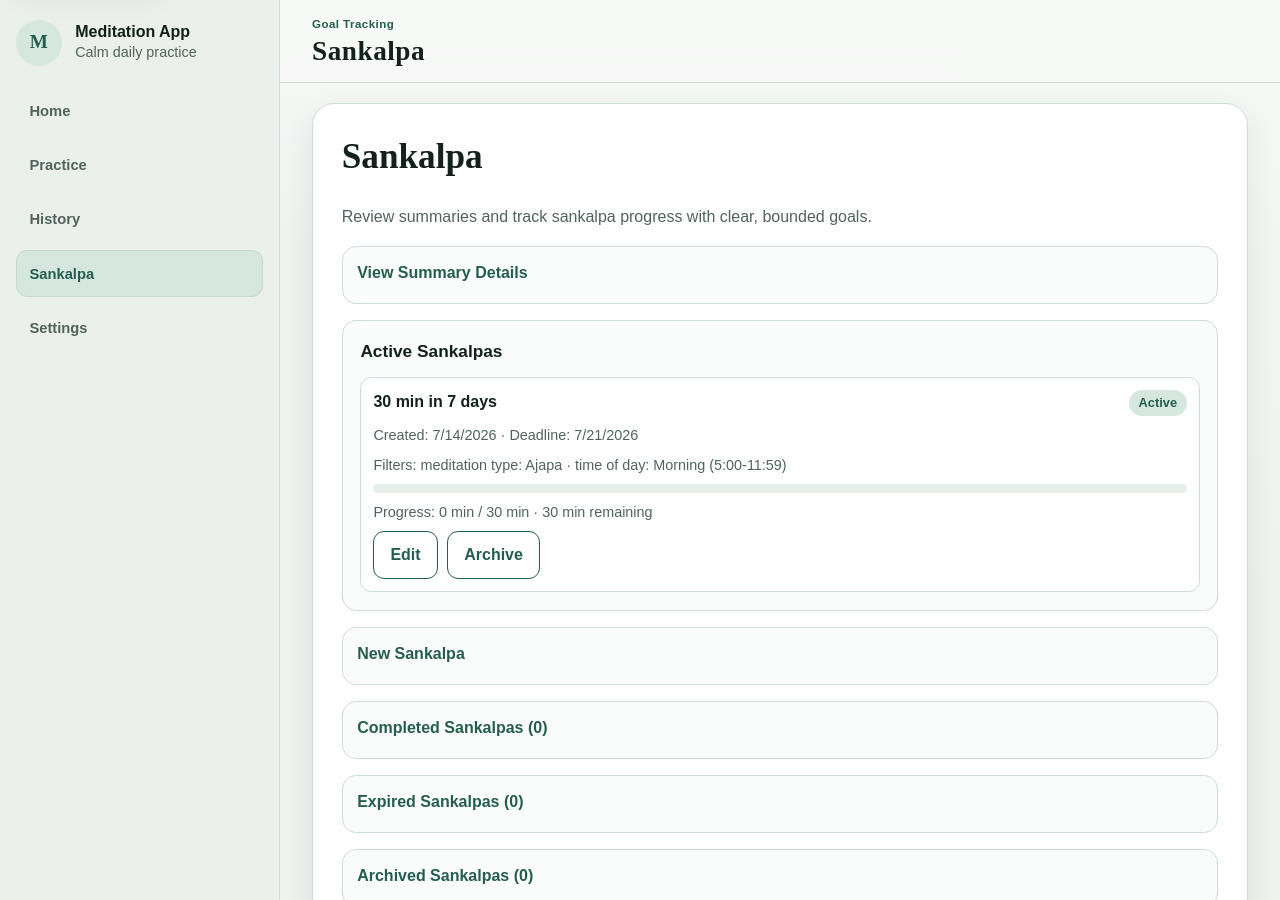
Test: Sankalpa summary UX › edits goal type and optional filters, then recalculates visible progress from the original window
The width and height of the screenshot is (1280, 900).
Click the button "Edit" at (406, 555), box [373,531,438,580]
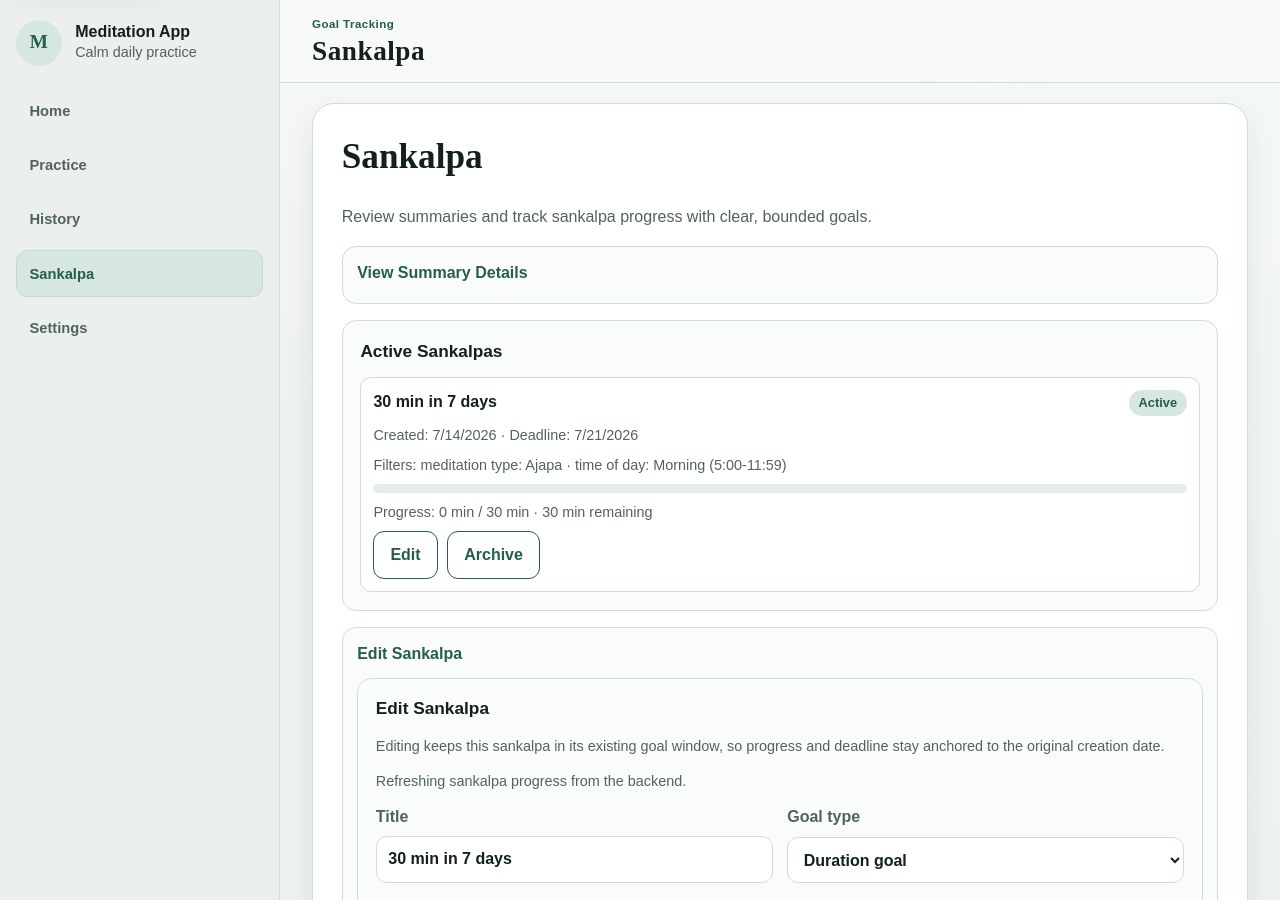
Select "Session-count goal" in the dropdown labelled "Goal type" at (986, 860), box [787,837,1184,883]
(page scrolled)
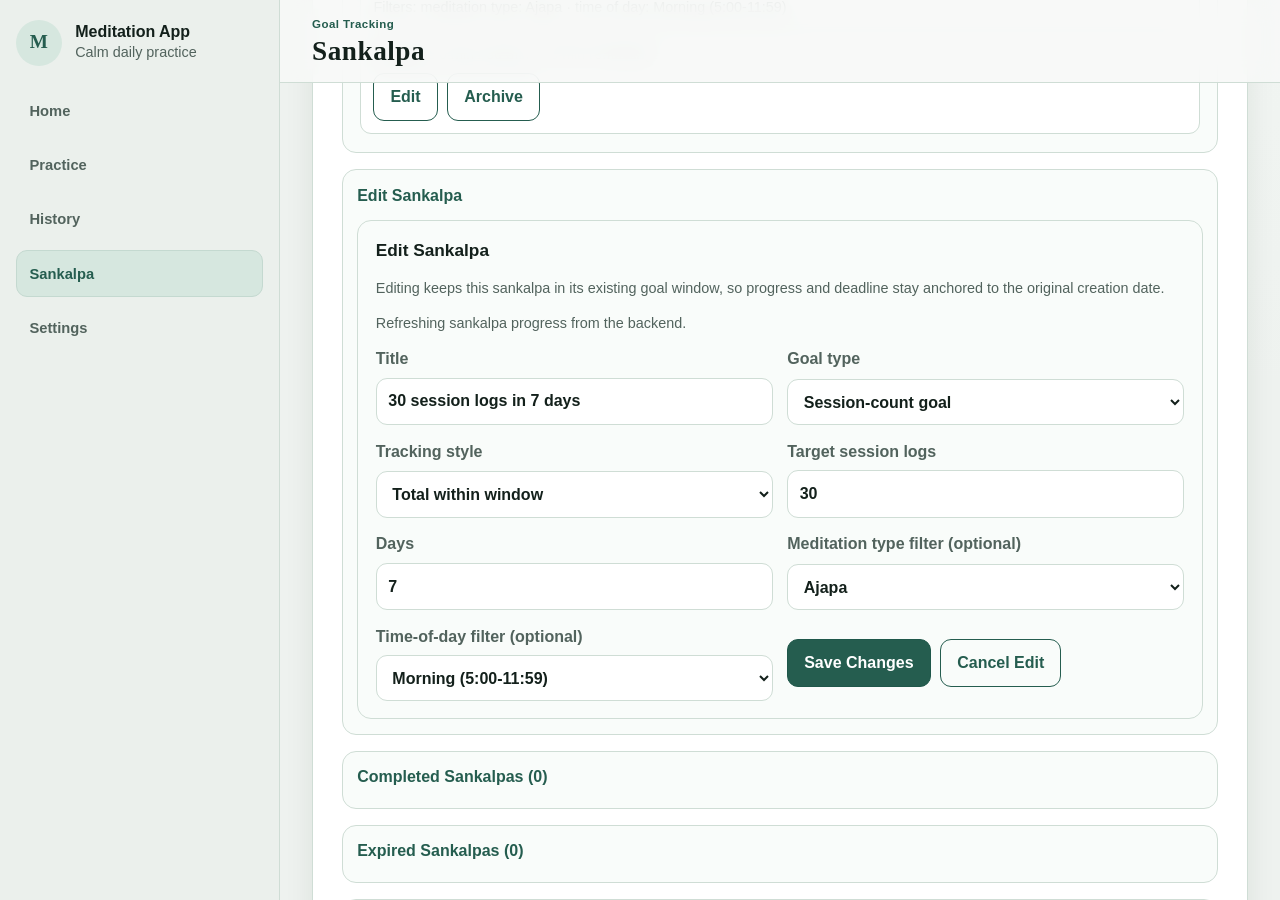
Expected: the number field labelled "Target session logs" is shown
Replace the text in the number field labelled "Target session logs" with "1" at (986, 494), box [787,470,1184,518]
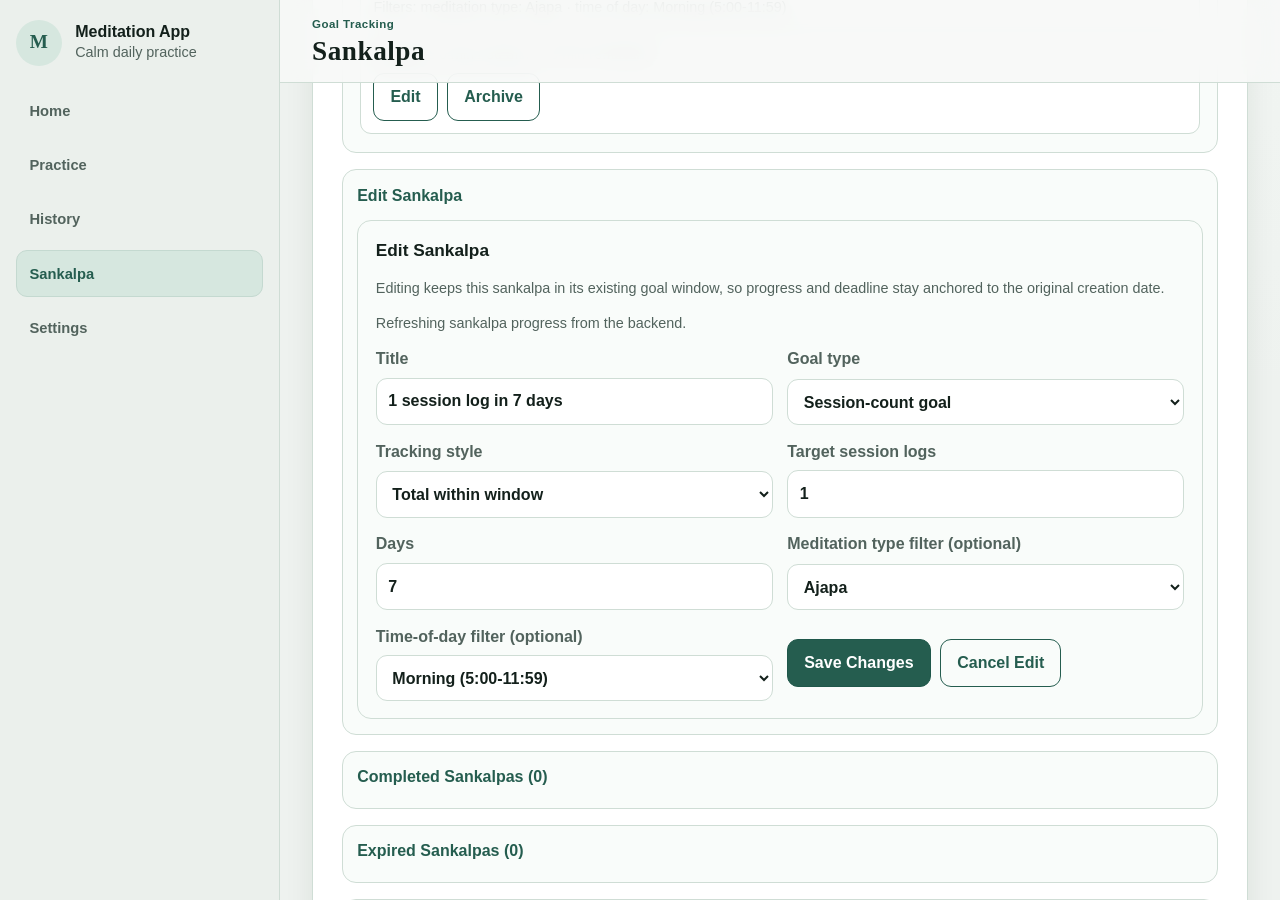
Replace the text in the number field labelled "Days" with "5" at (574, 587), box [376,563,773,610]
Select "Vipassana" in the dropdown labelled "Meditation type filter (optional)" at (986, 587), box [787,564,1184,610]
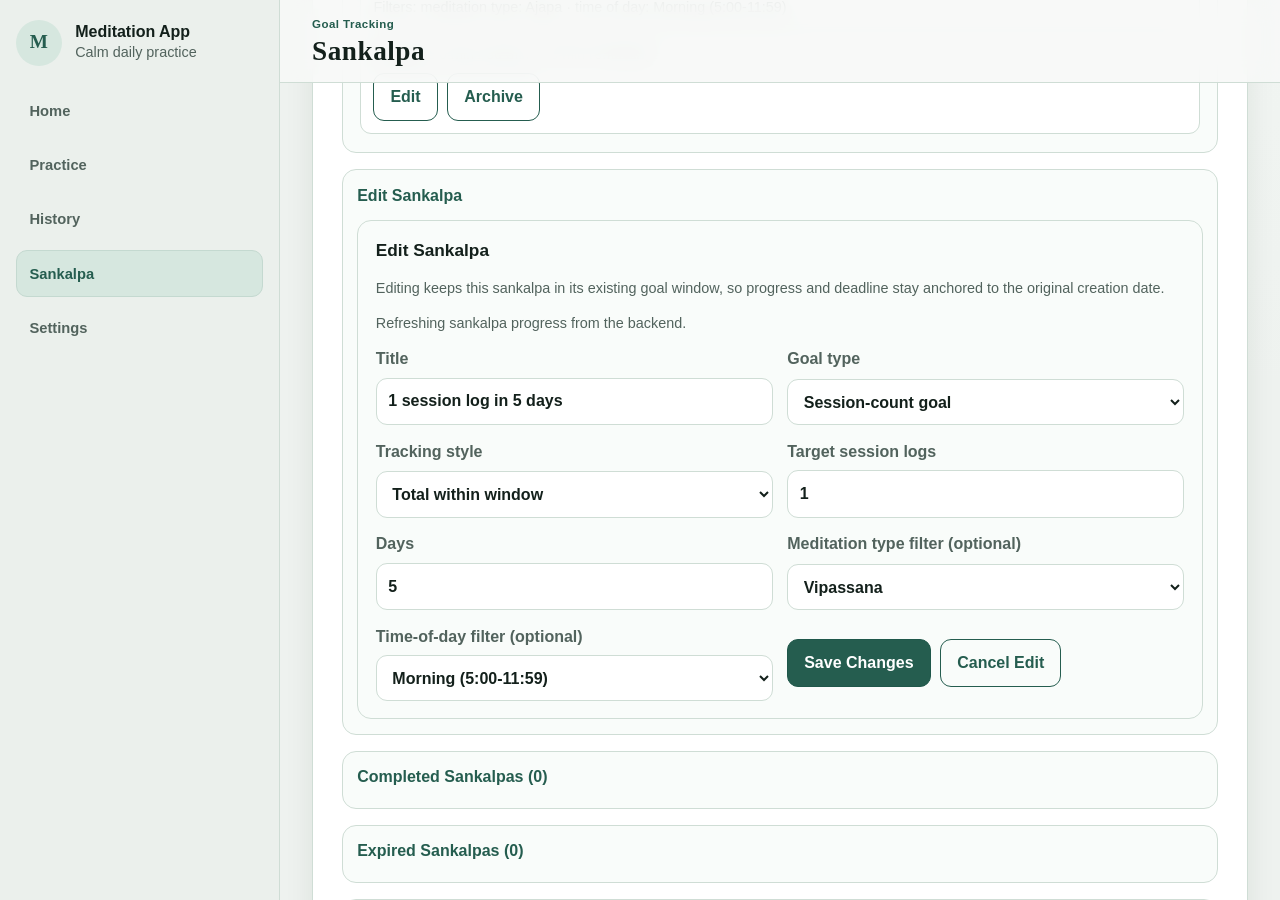
Select "Evening (17:00-20:59)" in the dropdown labelled "Time-of-day filter (optional)" at (574, 678), box [376,655,773,701]
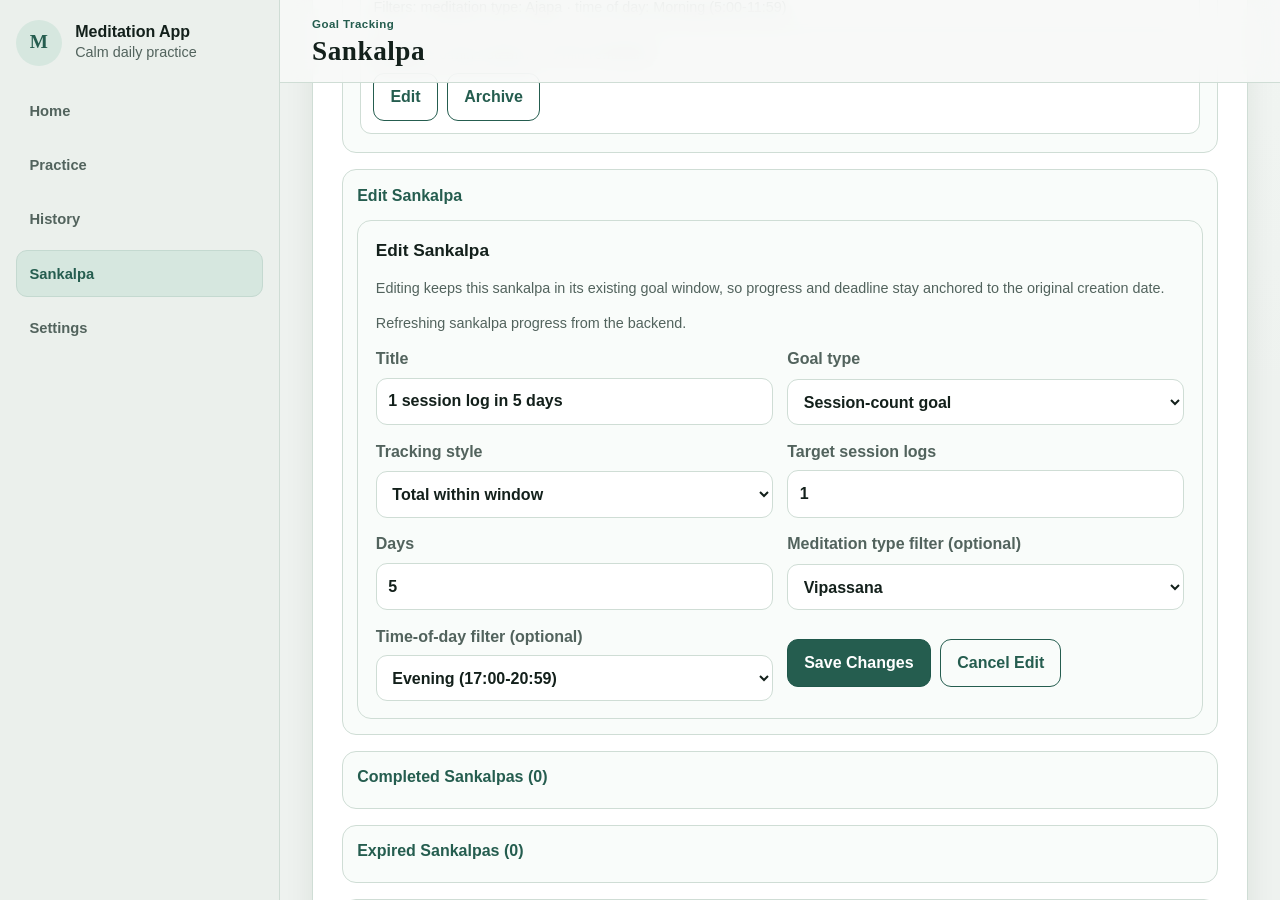
Click the button "Save Changes" at (859, 663), box [787,639,931,687]
(page scrolled)
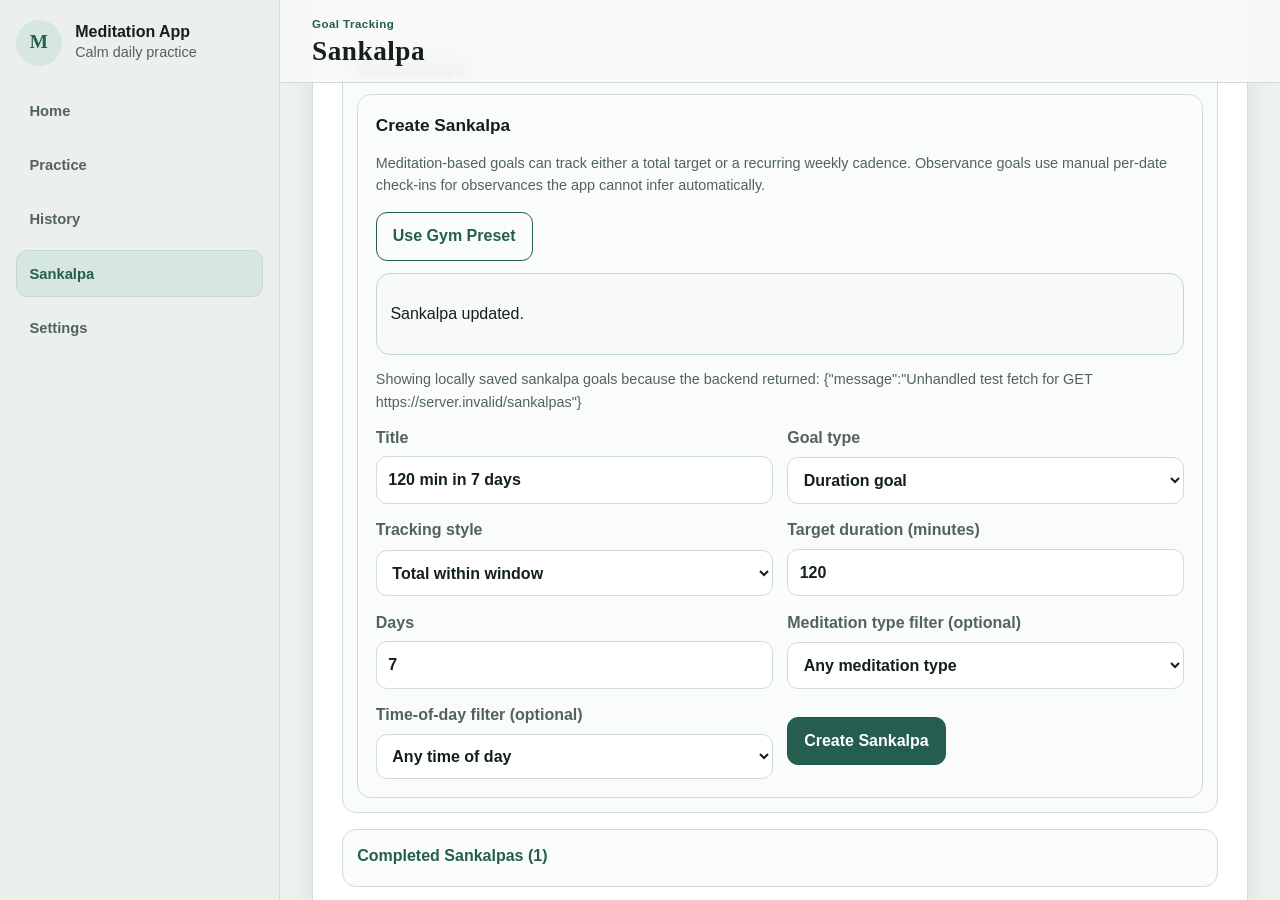
Expected: the text "Sankalpa updated." is shown, [390,306,524,322]
